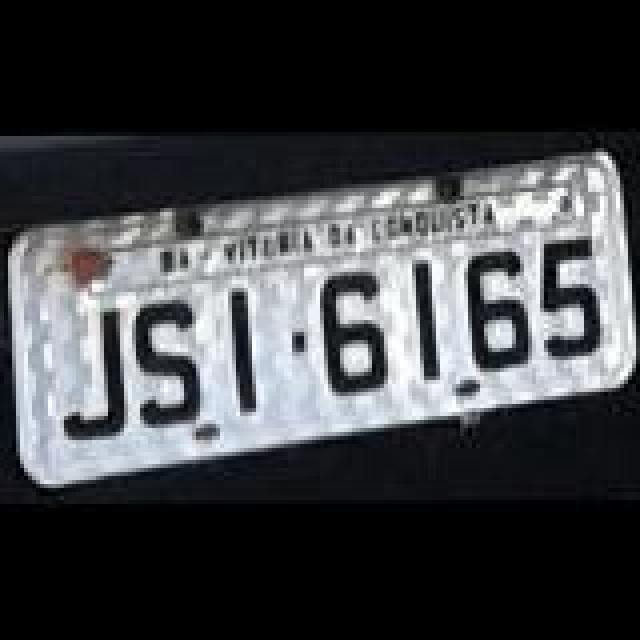1: (216, 280, 272, 420), (404, 258, 452, 386)
5: (532, 234, 604, 366)
6: (460, 244, 540, 376), (320, 268, 392, 400)
J: (62, 304, 130, 448)
S: (130, 296, 206, 440)
